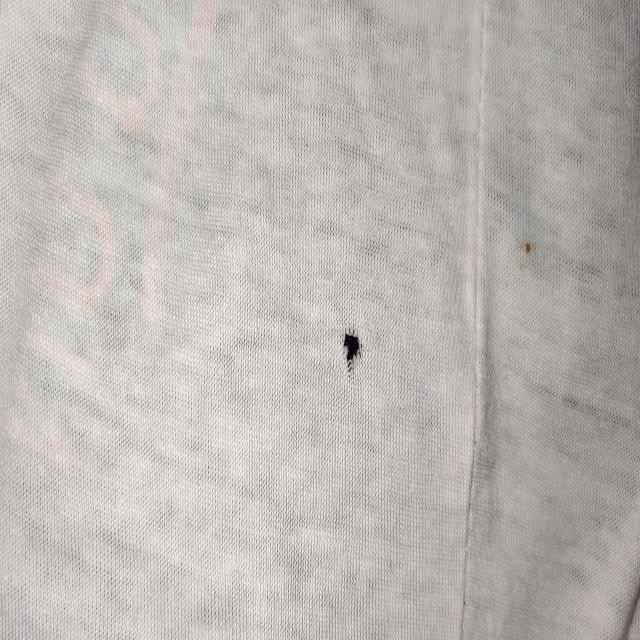Hole: (342, 329, 363, 378), (519, 240, 537, 270)
Line: (455, 0, 482, 640)
